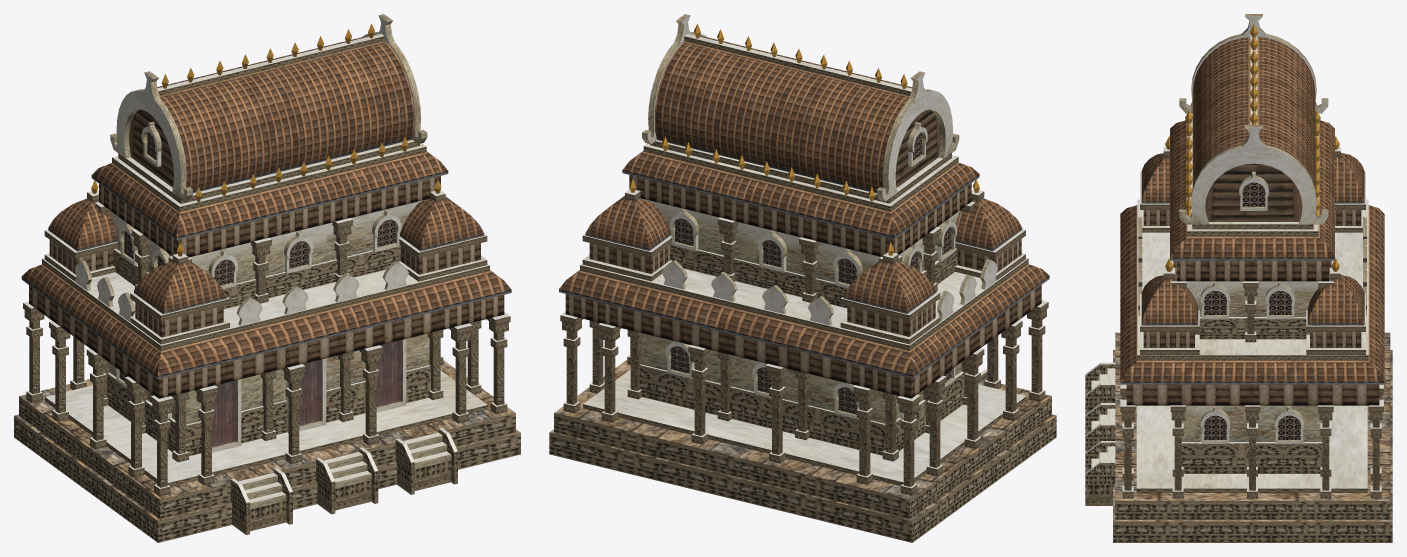
3 renders of one model, left to right at view 1: azimuth 30°, elevation 25°; view 2: azimuth 150°, elevation 25°; view 3: azimuth 270°, elevation 25°, orthographic. The views are drawn at different scales.
Visible parts, largest first — view 1: cc; view 2: cc; view 3: cc.
Boxes of the visible parts, x1,y1,x2,y2 form: cc: (14,14,520,542); cc: (549,14,1056,542); cc: (1085,14,1392,542).
Size of the model in its own units: 25.02 by 18.92 by 26.27.
